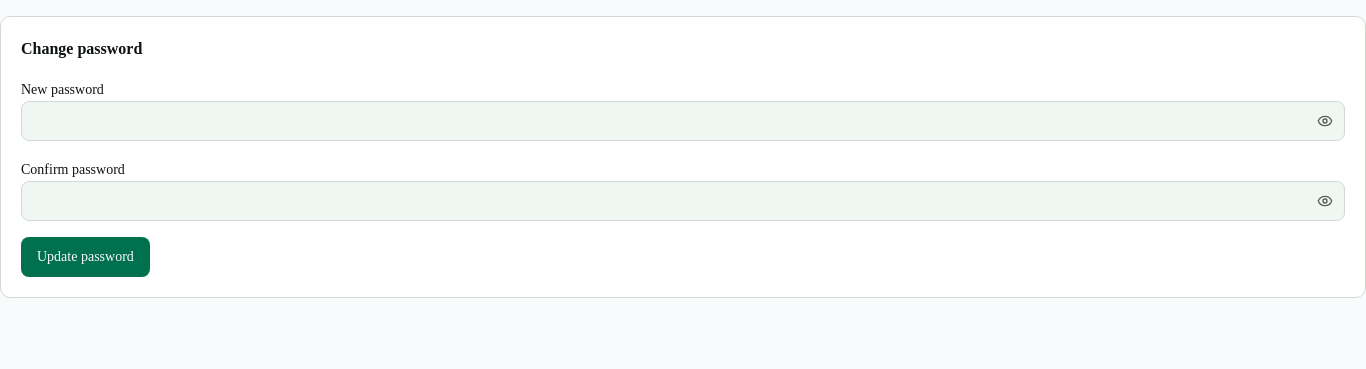
Scenario: ChangePasswordForm › updates the authenticated user's password
Type "secret123" into the password field labelled "New password" at (683, 121), box [21,101,1345,141]
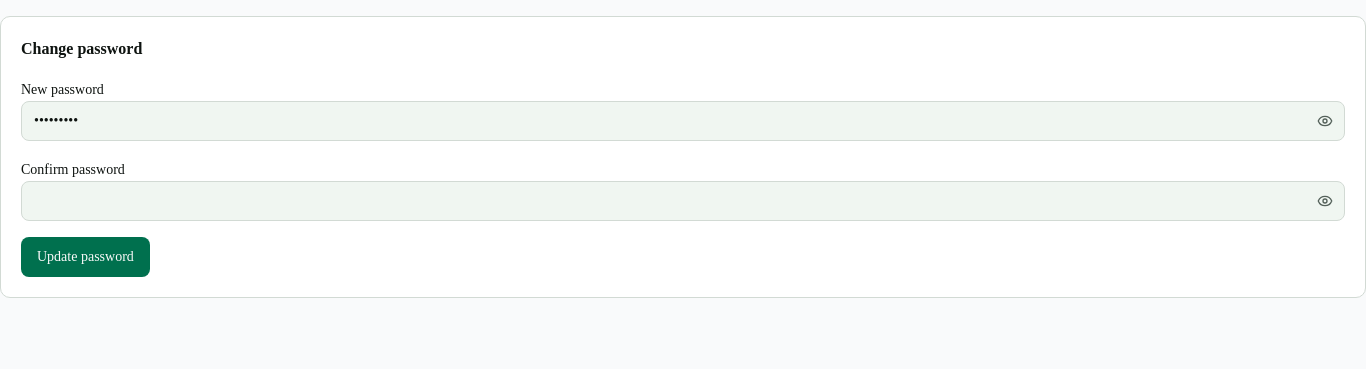
Type "secret123" into the password field labelled "Confirm password" at (683, 201), box [21,181,1345,221]
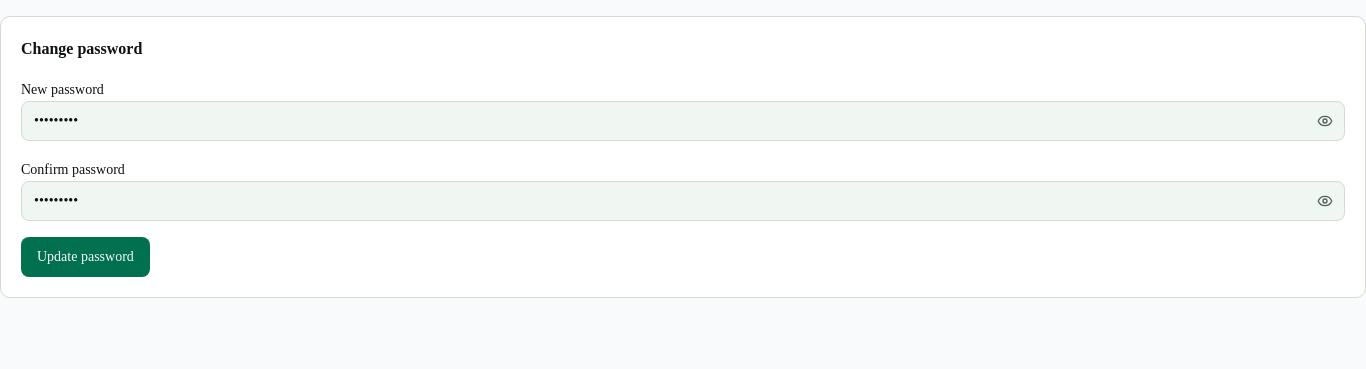
Click the button "Update password" at (85, 257), box [21,237,150,277]
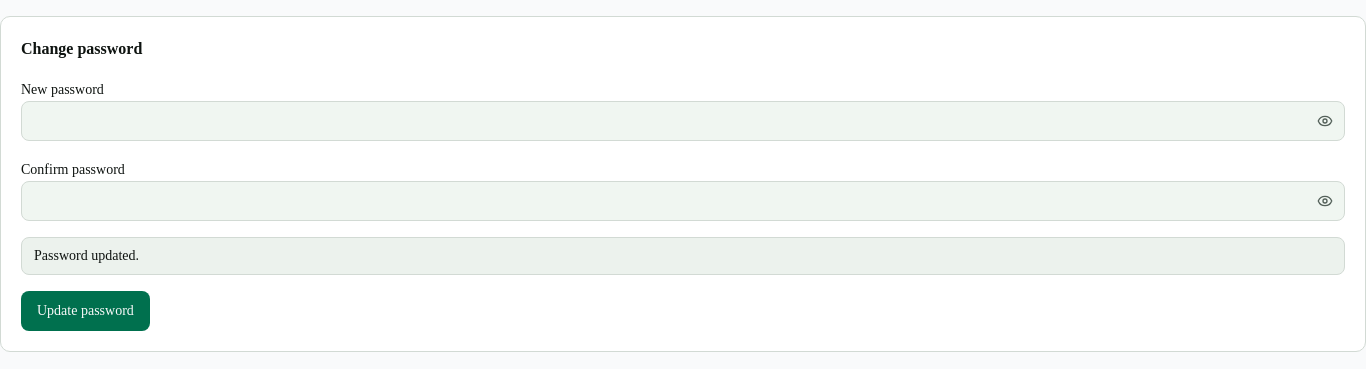
expect the text "Password updated." is shown: met, box [21,237,1345,275]
